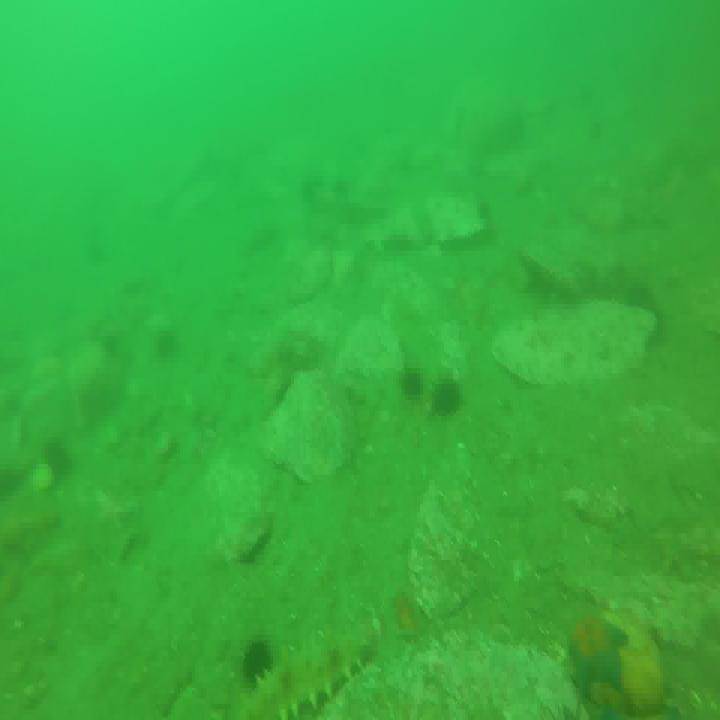echinus: (243, 637, 269, 687), (430, 376, 463, 413), (399, 365, 425, 398)
holothurian: (247, 630, 376, 720)
starfish: (566, 608, 630, 698)
